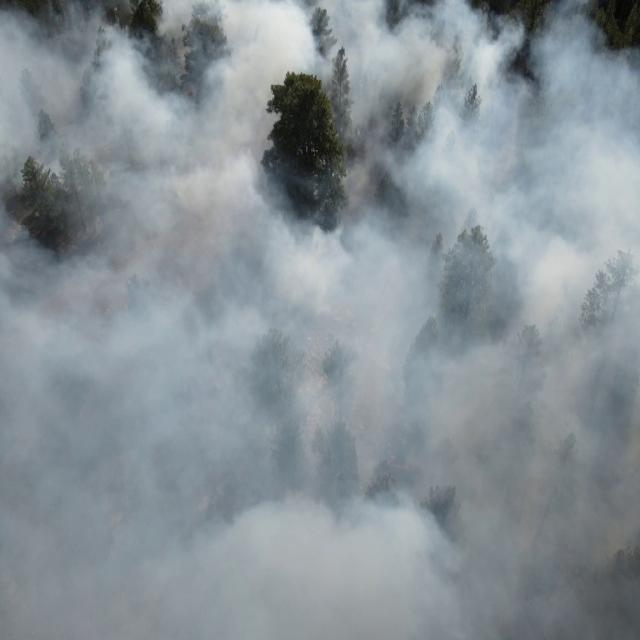fire: (386, 456, 420, 474)
smoke: (335, 46, 639, 640), (0, 0, 261, 640), (261, 145, 335, 640), (261, 0, 605, 72), (262, 107, 280, 145), (320, 72, 335, 98), (262, 73, 286, 86), (261, 86, 275, 105)
